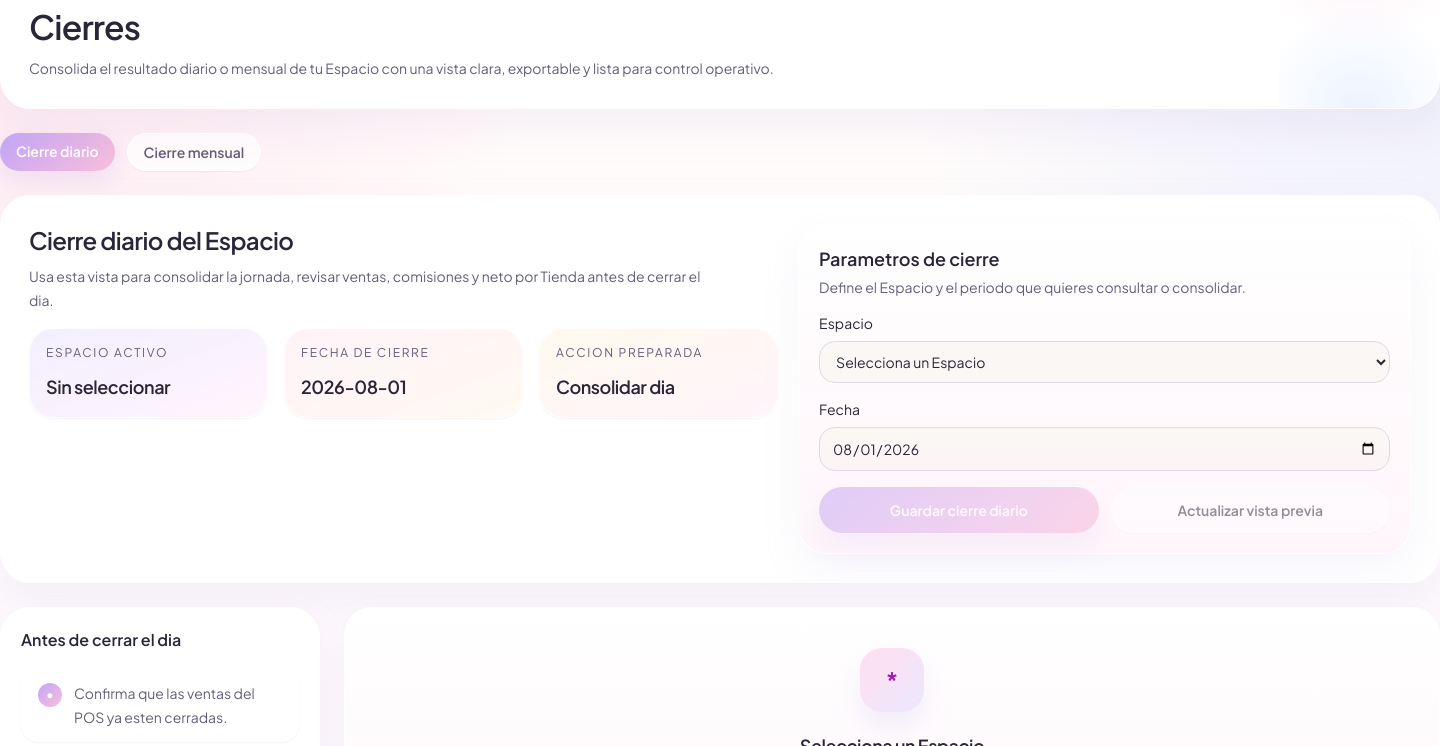
it: DailyClosingPage › shows the daily preview before saving the closing
Select "Mercado Creativo" in the dropdown labelled "Espacio": x=1105, y=362 [819,341,1390,383]
(page scrolled)
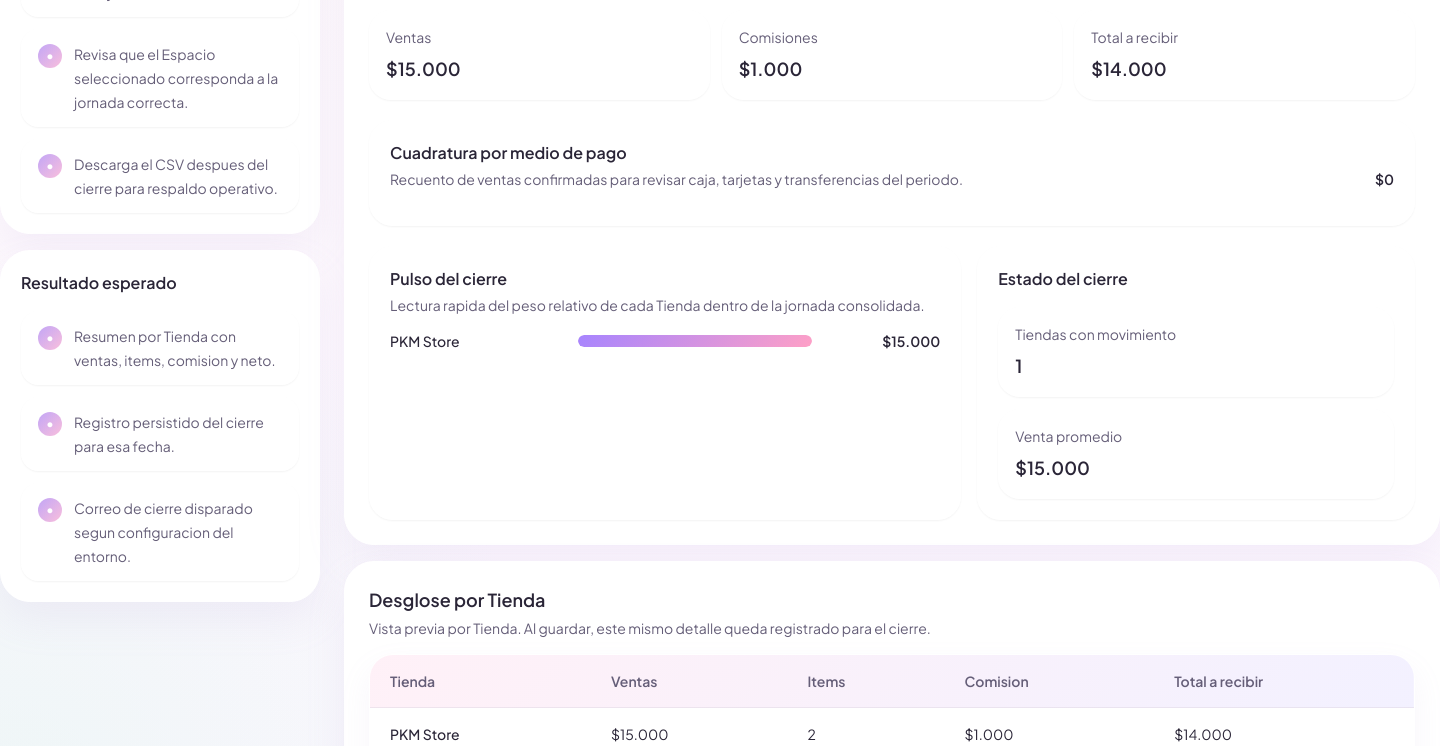
Expected: the text "PKM Store" below "Pulso del cierre" is shown, [390,332,460,350]
